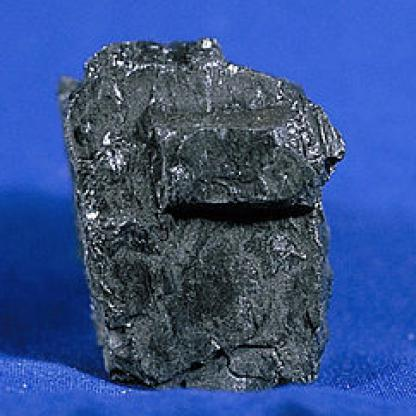Sedimentary_coal: (45, 23, 366, 401)
